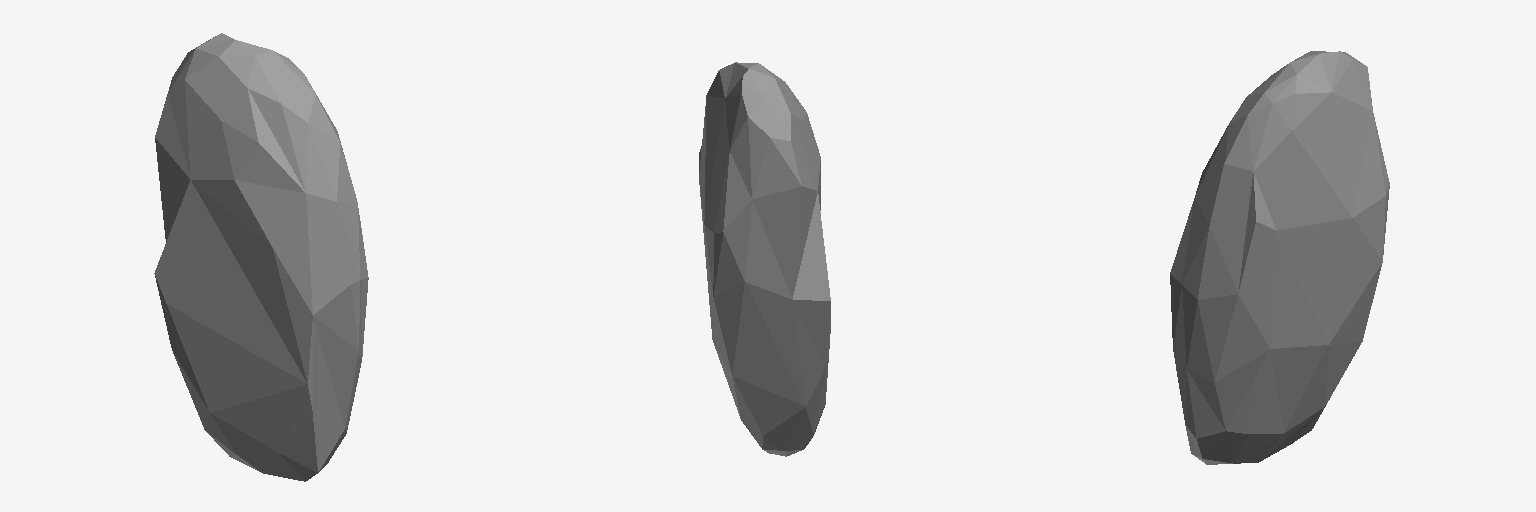
The model's file is pedraNV.obj.
The picture shows the model from 3 angles: view 1: azimuth 30°, elevation 25°; view 2: azimuth 150°, elevation 25°; view 3: azimuth 270°, elevation 25°; orthographic projection.
Parts seen in each view (by area): view 1: Ico_Sphere.001; view 2: Ico_Sphere.001; view 3: Ico_Sphere.001.
Boxes of the visible parts, x1,y1,x2,y2 form: Ico_Sphere.001: [154, 33, 368, 481]; Ico_Sphere.001: [699, 62, 830, 456]; Ico_Sphere.001: [1170, 51, 1389, 464].
Size of the model in its own units: 0.4712 by 1.11 by 0.5447.